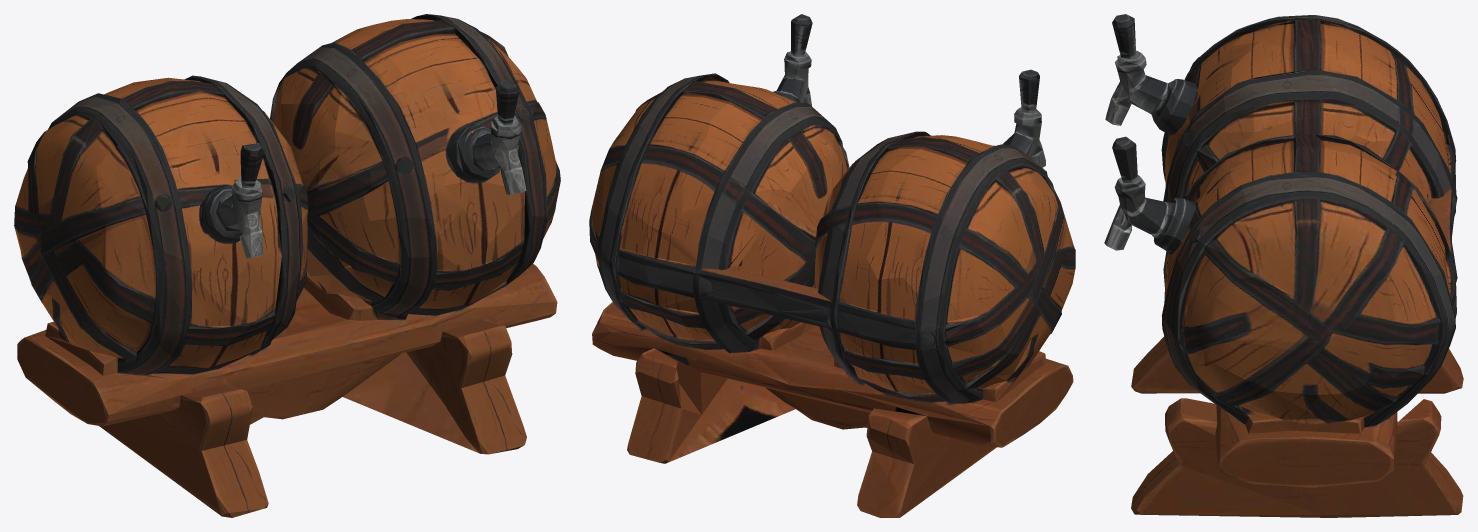
The model's file is keg-rack.hq.glb.
3 renders of one model, left to right at view 1: azimuth 30°, elevation 25°; view 2: azimuth 150°, elevation 25°; view 3: azimuth 270°, elevation 25°, orthographic. The views are drawn at different scales.
Visible parts, largest first — view 1: output_unwrapped; view 2: output_unwrapped; view 3: output_unwrapped.
Boxes of the visible parts, x1=… form: output_unwrapped: x1=14, y1=14, x2=560, y2=517; output_unwrapped: x1=589, y1=14, x2=1075, y2=517; output_unwrapped: x1=1104, y1=14, x2=1463, y2=517.
Bounding box in the file's own units: 1.9 × 1.43 × 1.27.
1 material, 1 textured.
